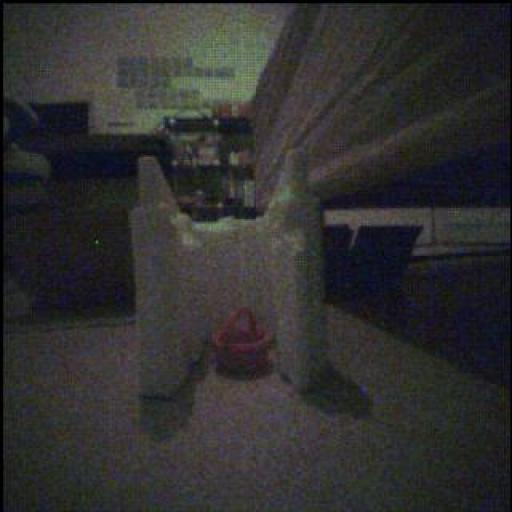basket: (214, 309, 273, 376)
